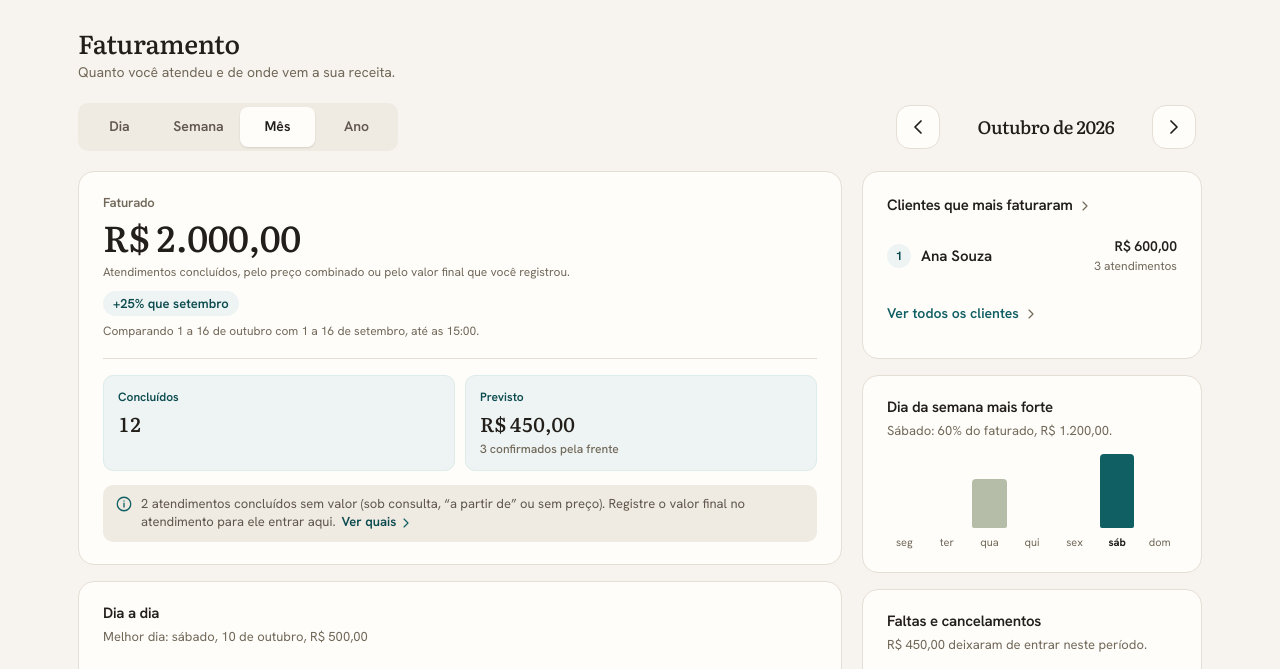
Scenario: Faturamento › setas pedem o período vizinho e 'Este mês' volta para hoje
Expected: the heading "Outubro de 2026" is shown, [978,113,1114,140]
Click the button named "Mês anterior".
click(918, 127)  # box [896,105,940,149]
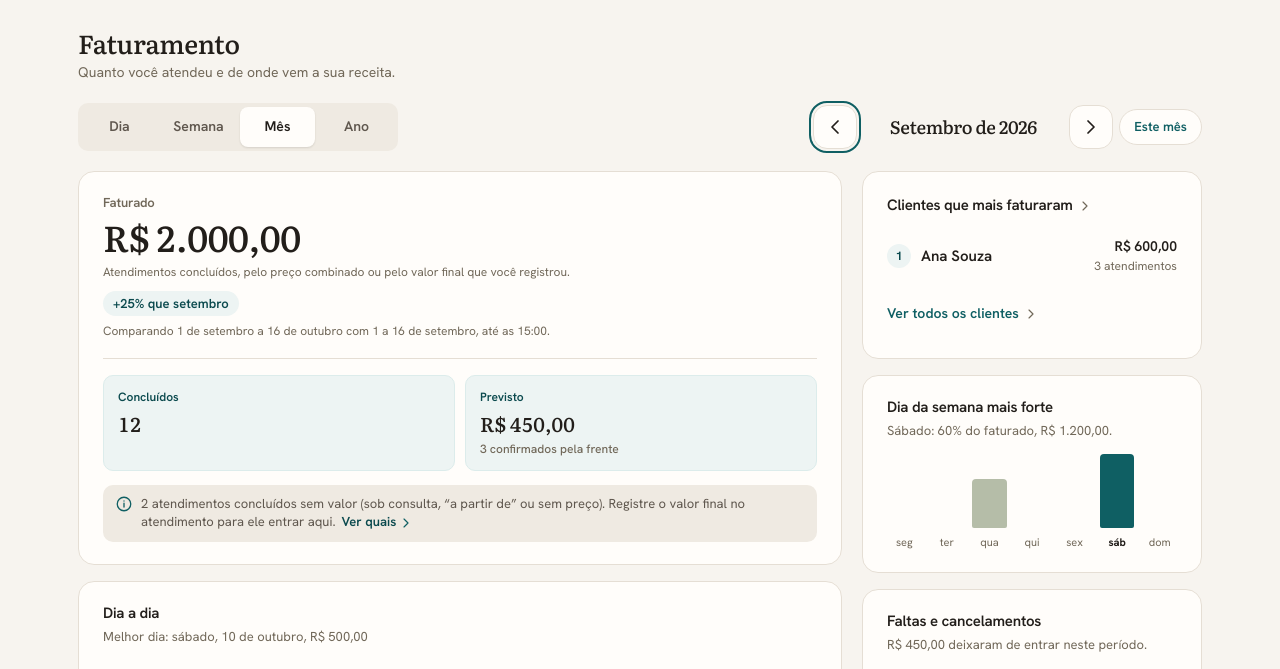
Now the heading "Setembro de 2026" is shown, box [890,113,1037,140]
Click the button "Este mês".
click(1161, 127)  # box [1119,109,1202,145]
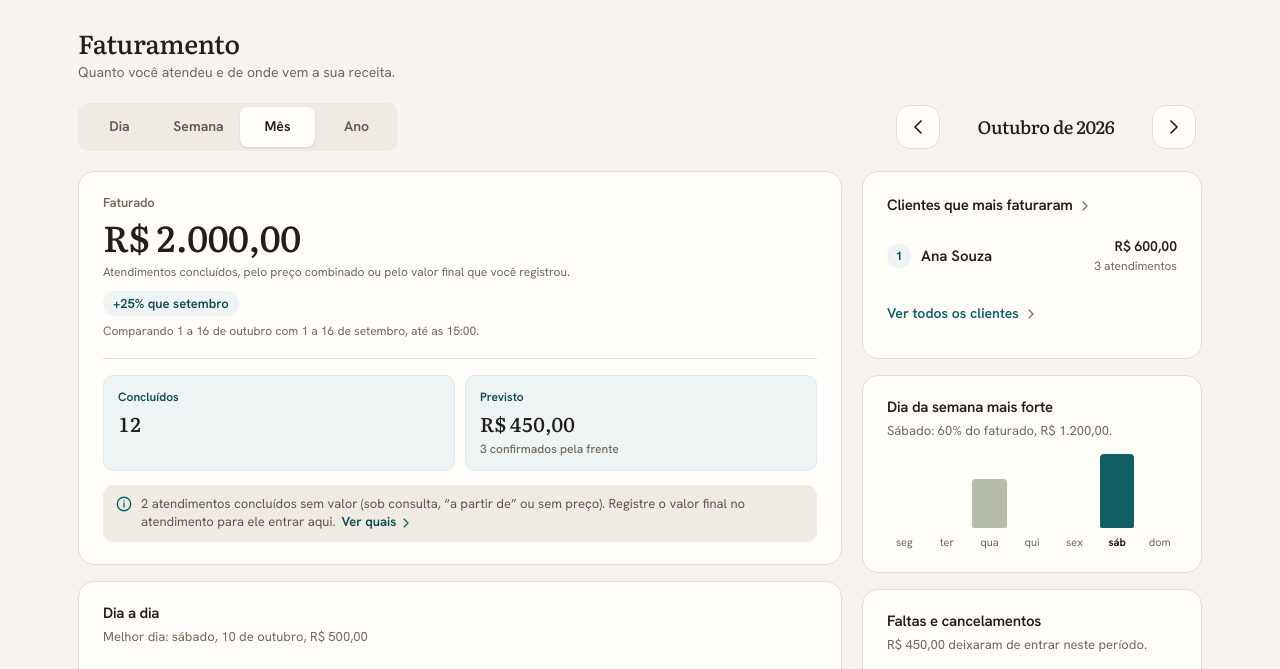
Now the heading "Outubro de 2026" is shown, box [978,113,1114,140]
